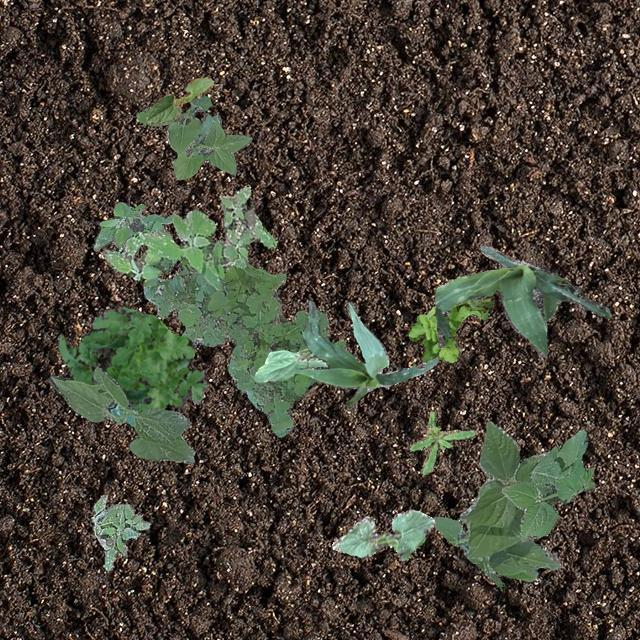crop: (432, 420, 560, 586), (433, 244, 610, 356), (292, 300, 438, 406), (46, 366, 194, 462), (330, 508, 434, 560), (146, 76, 212, 122), (252, 346, 328, 382)
weed: (143, 258, 344, 436), (100, 186, 276, 290), (56, 306, 206, 412), (501, 428, 594, 542), (134, 94, 250, 178), (407, 278, 492, 362), (90, 494, 150, 570), (408, 410, 474, 474), (92, 200, 172, 250)
